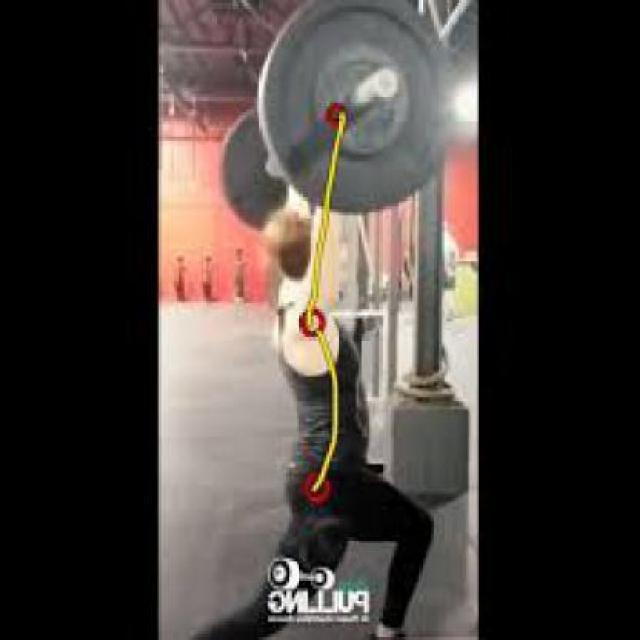Barbell: (368, 67, 401, 101)
